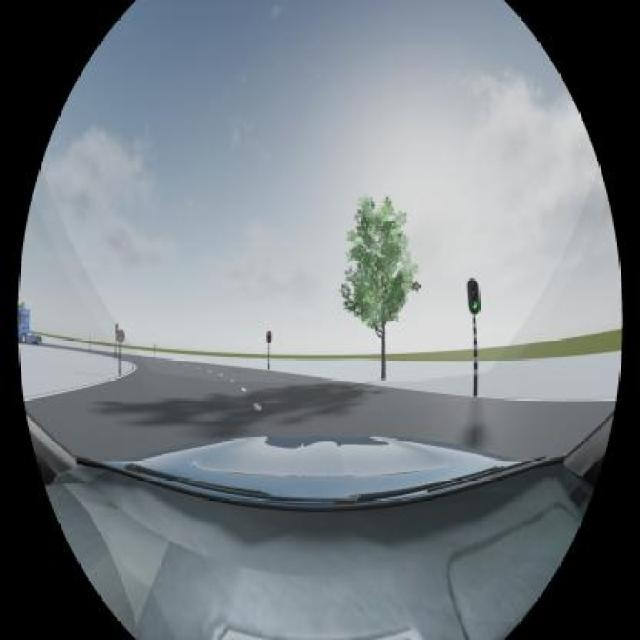forb_speed_over_70: (116, 329, 125, 343)
